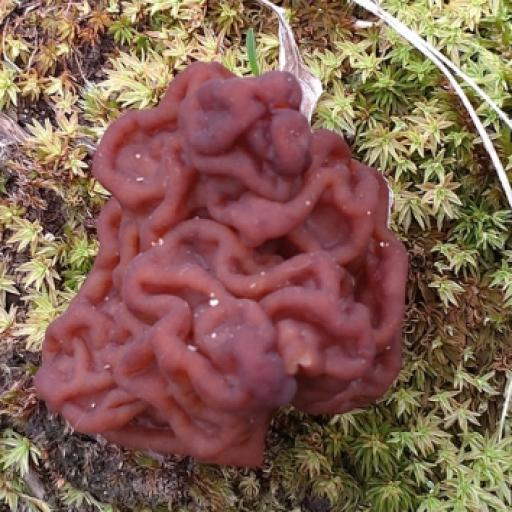mushroom: (25, 36, 452, 496)
